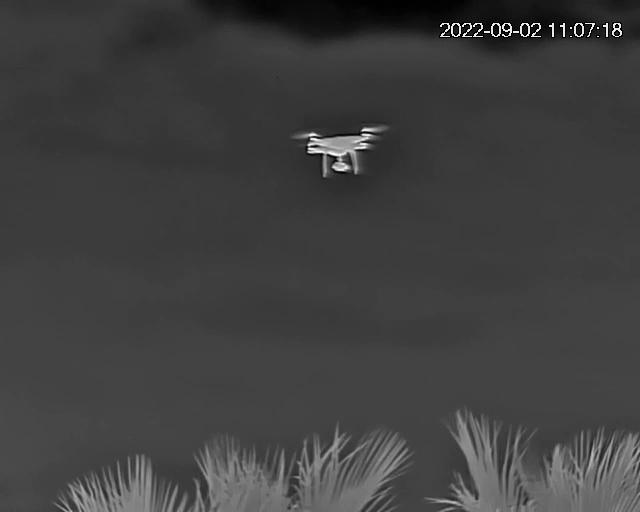DJI-Phantom: (295, 128, 385, 178)
